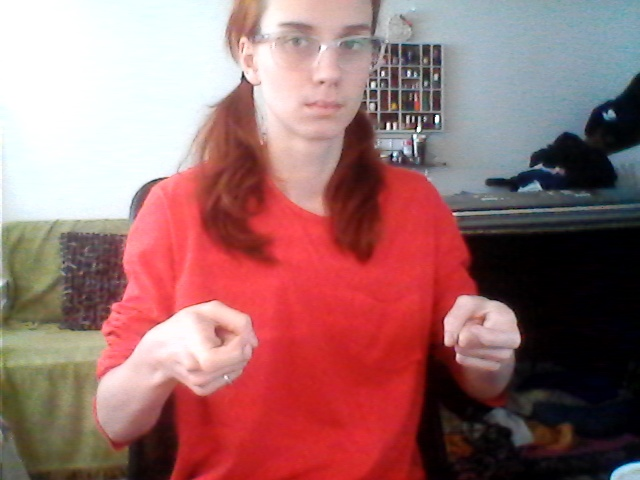davat: (165, 291, 525, 397)
